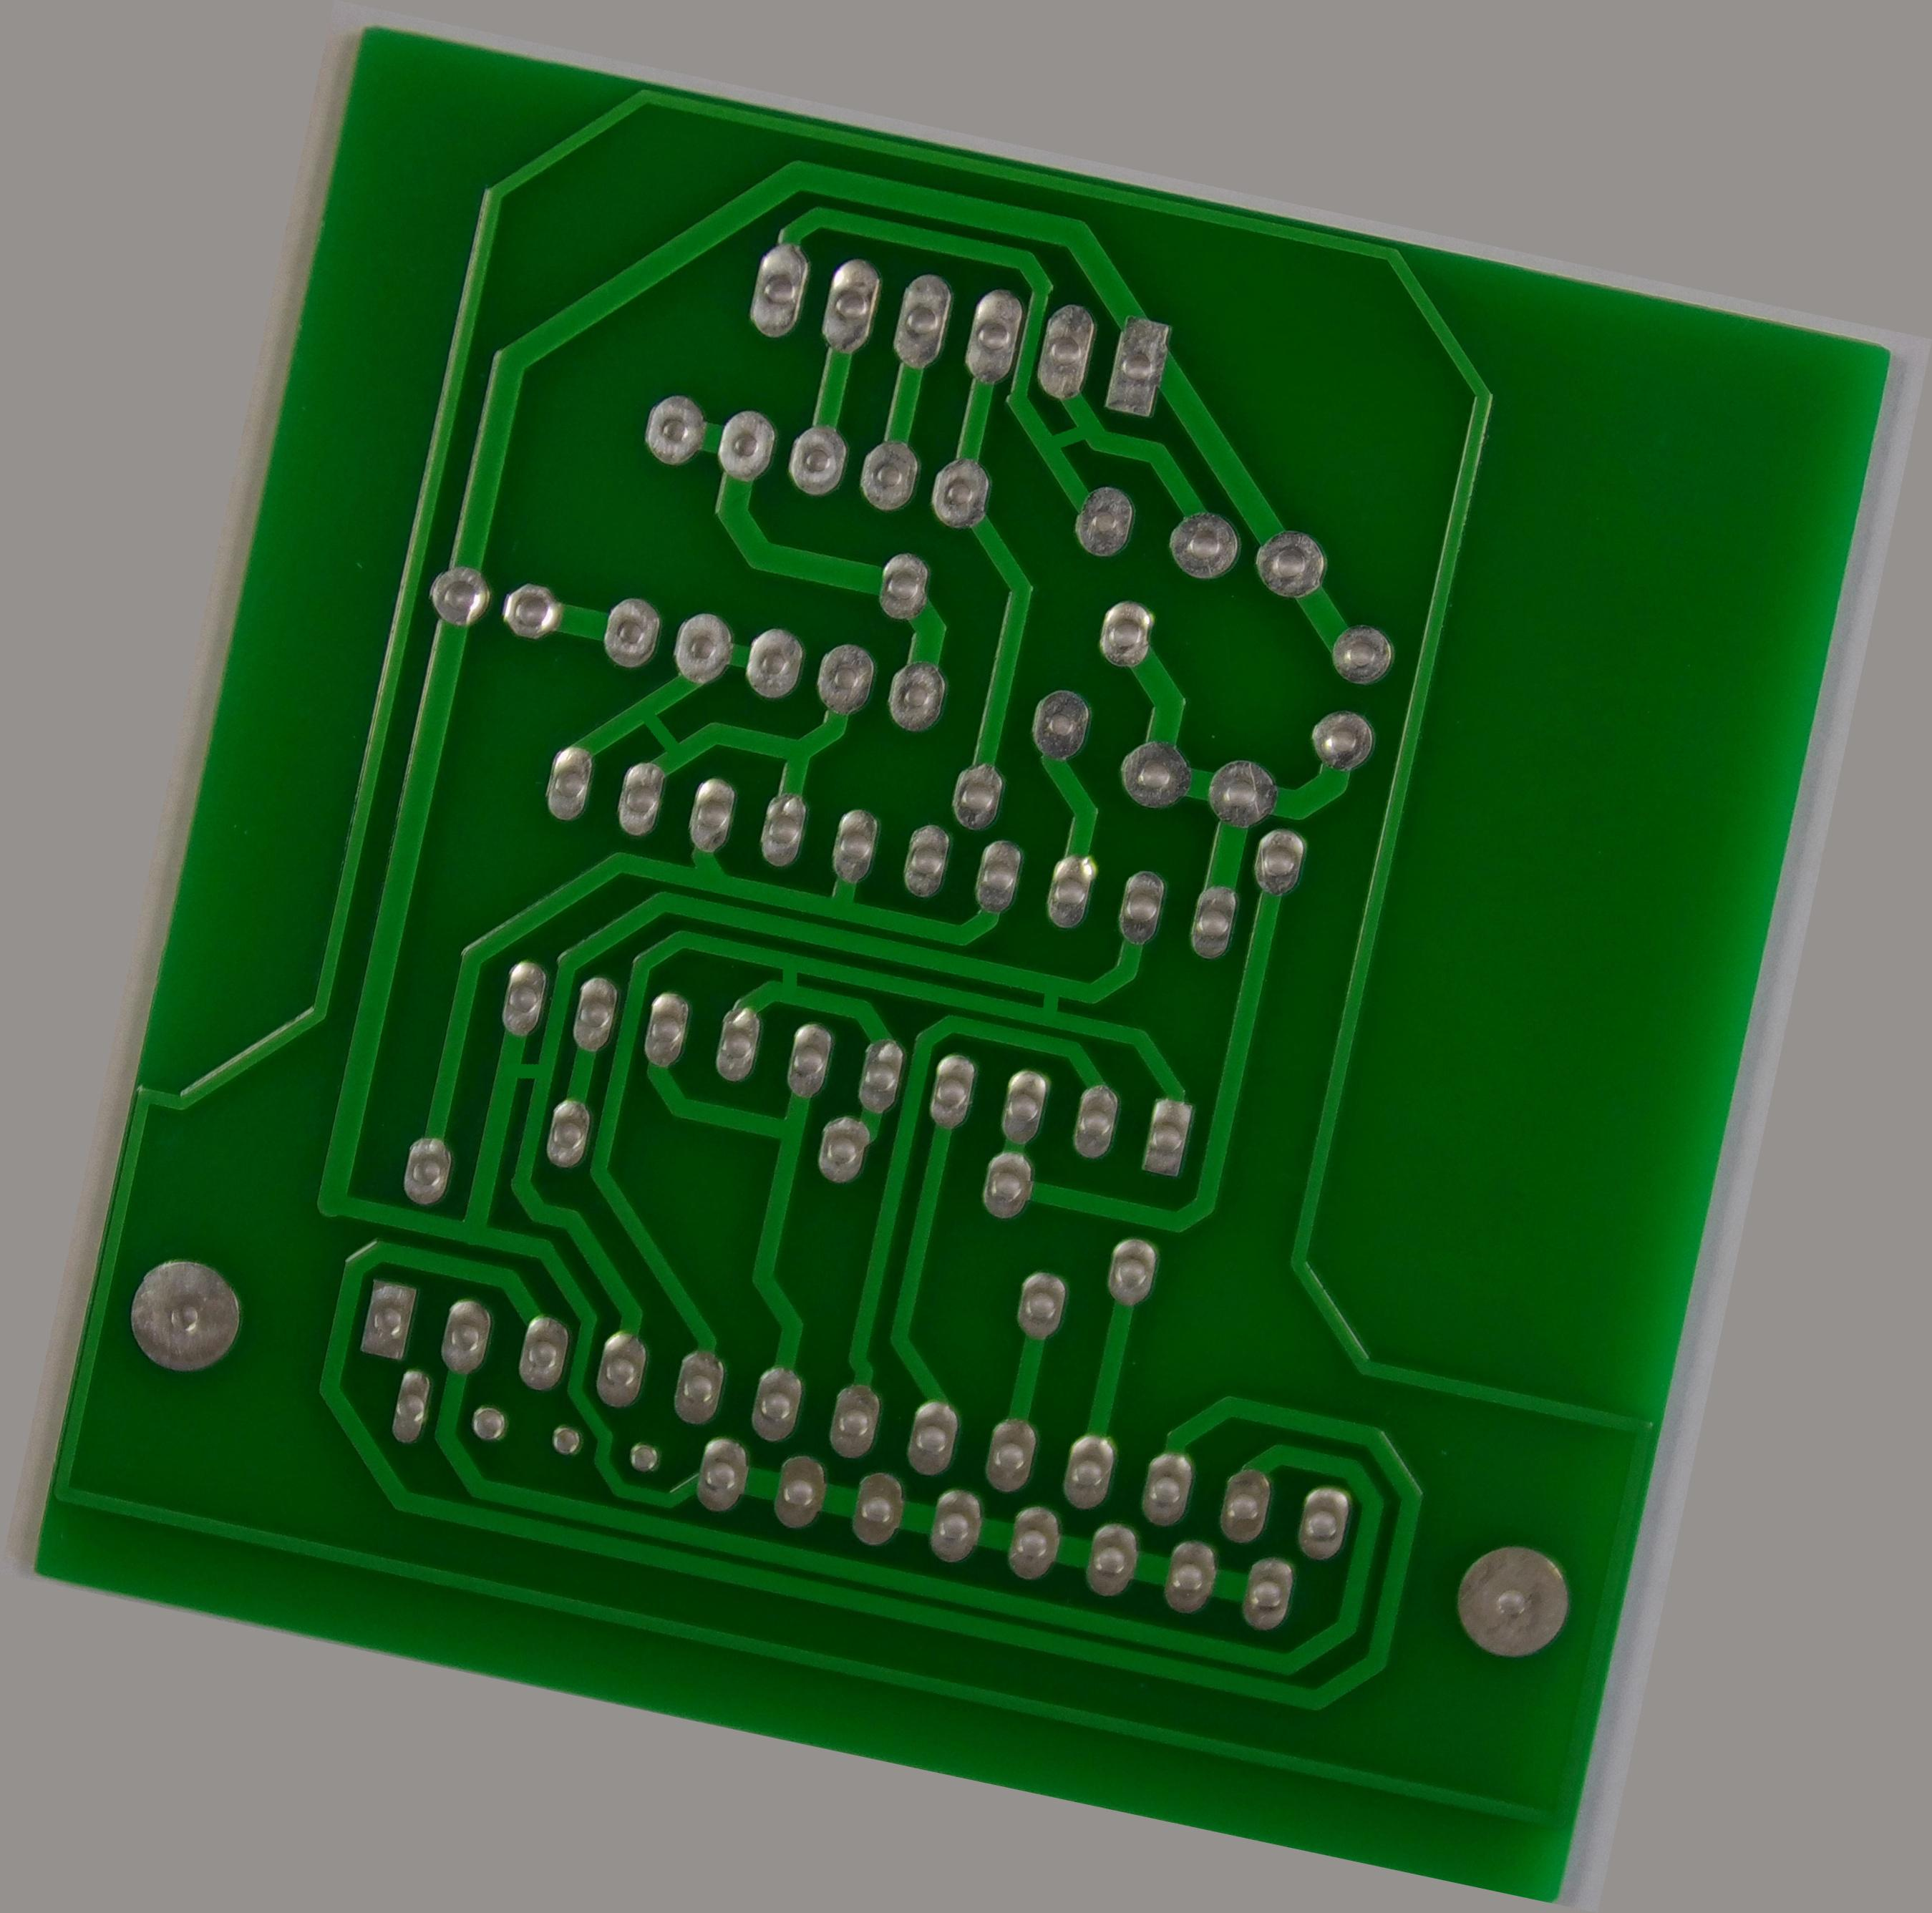short: (608, 685, 709, 773), (1012, 394, 1112, 475), (1007, 953, 1088, 1044), (480, 1041, 566, 1105), (751, 942, 827, 1013)
